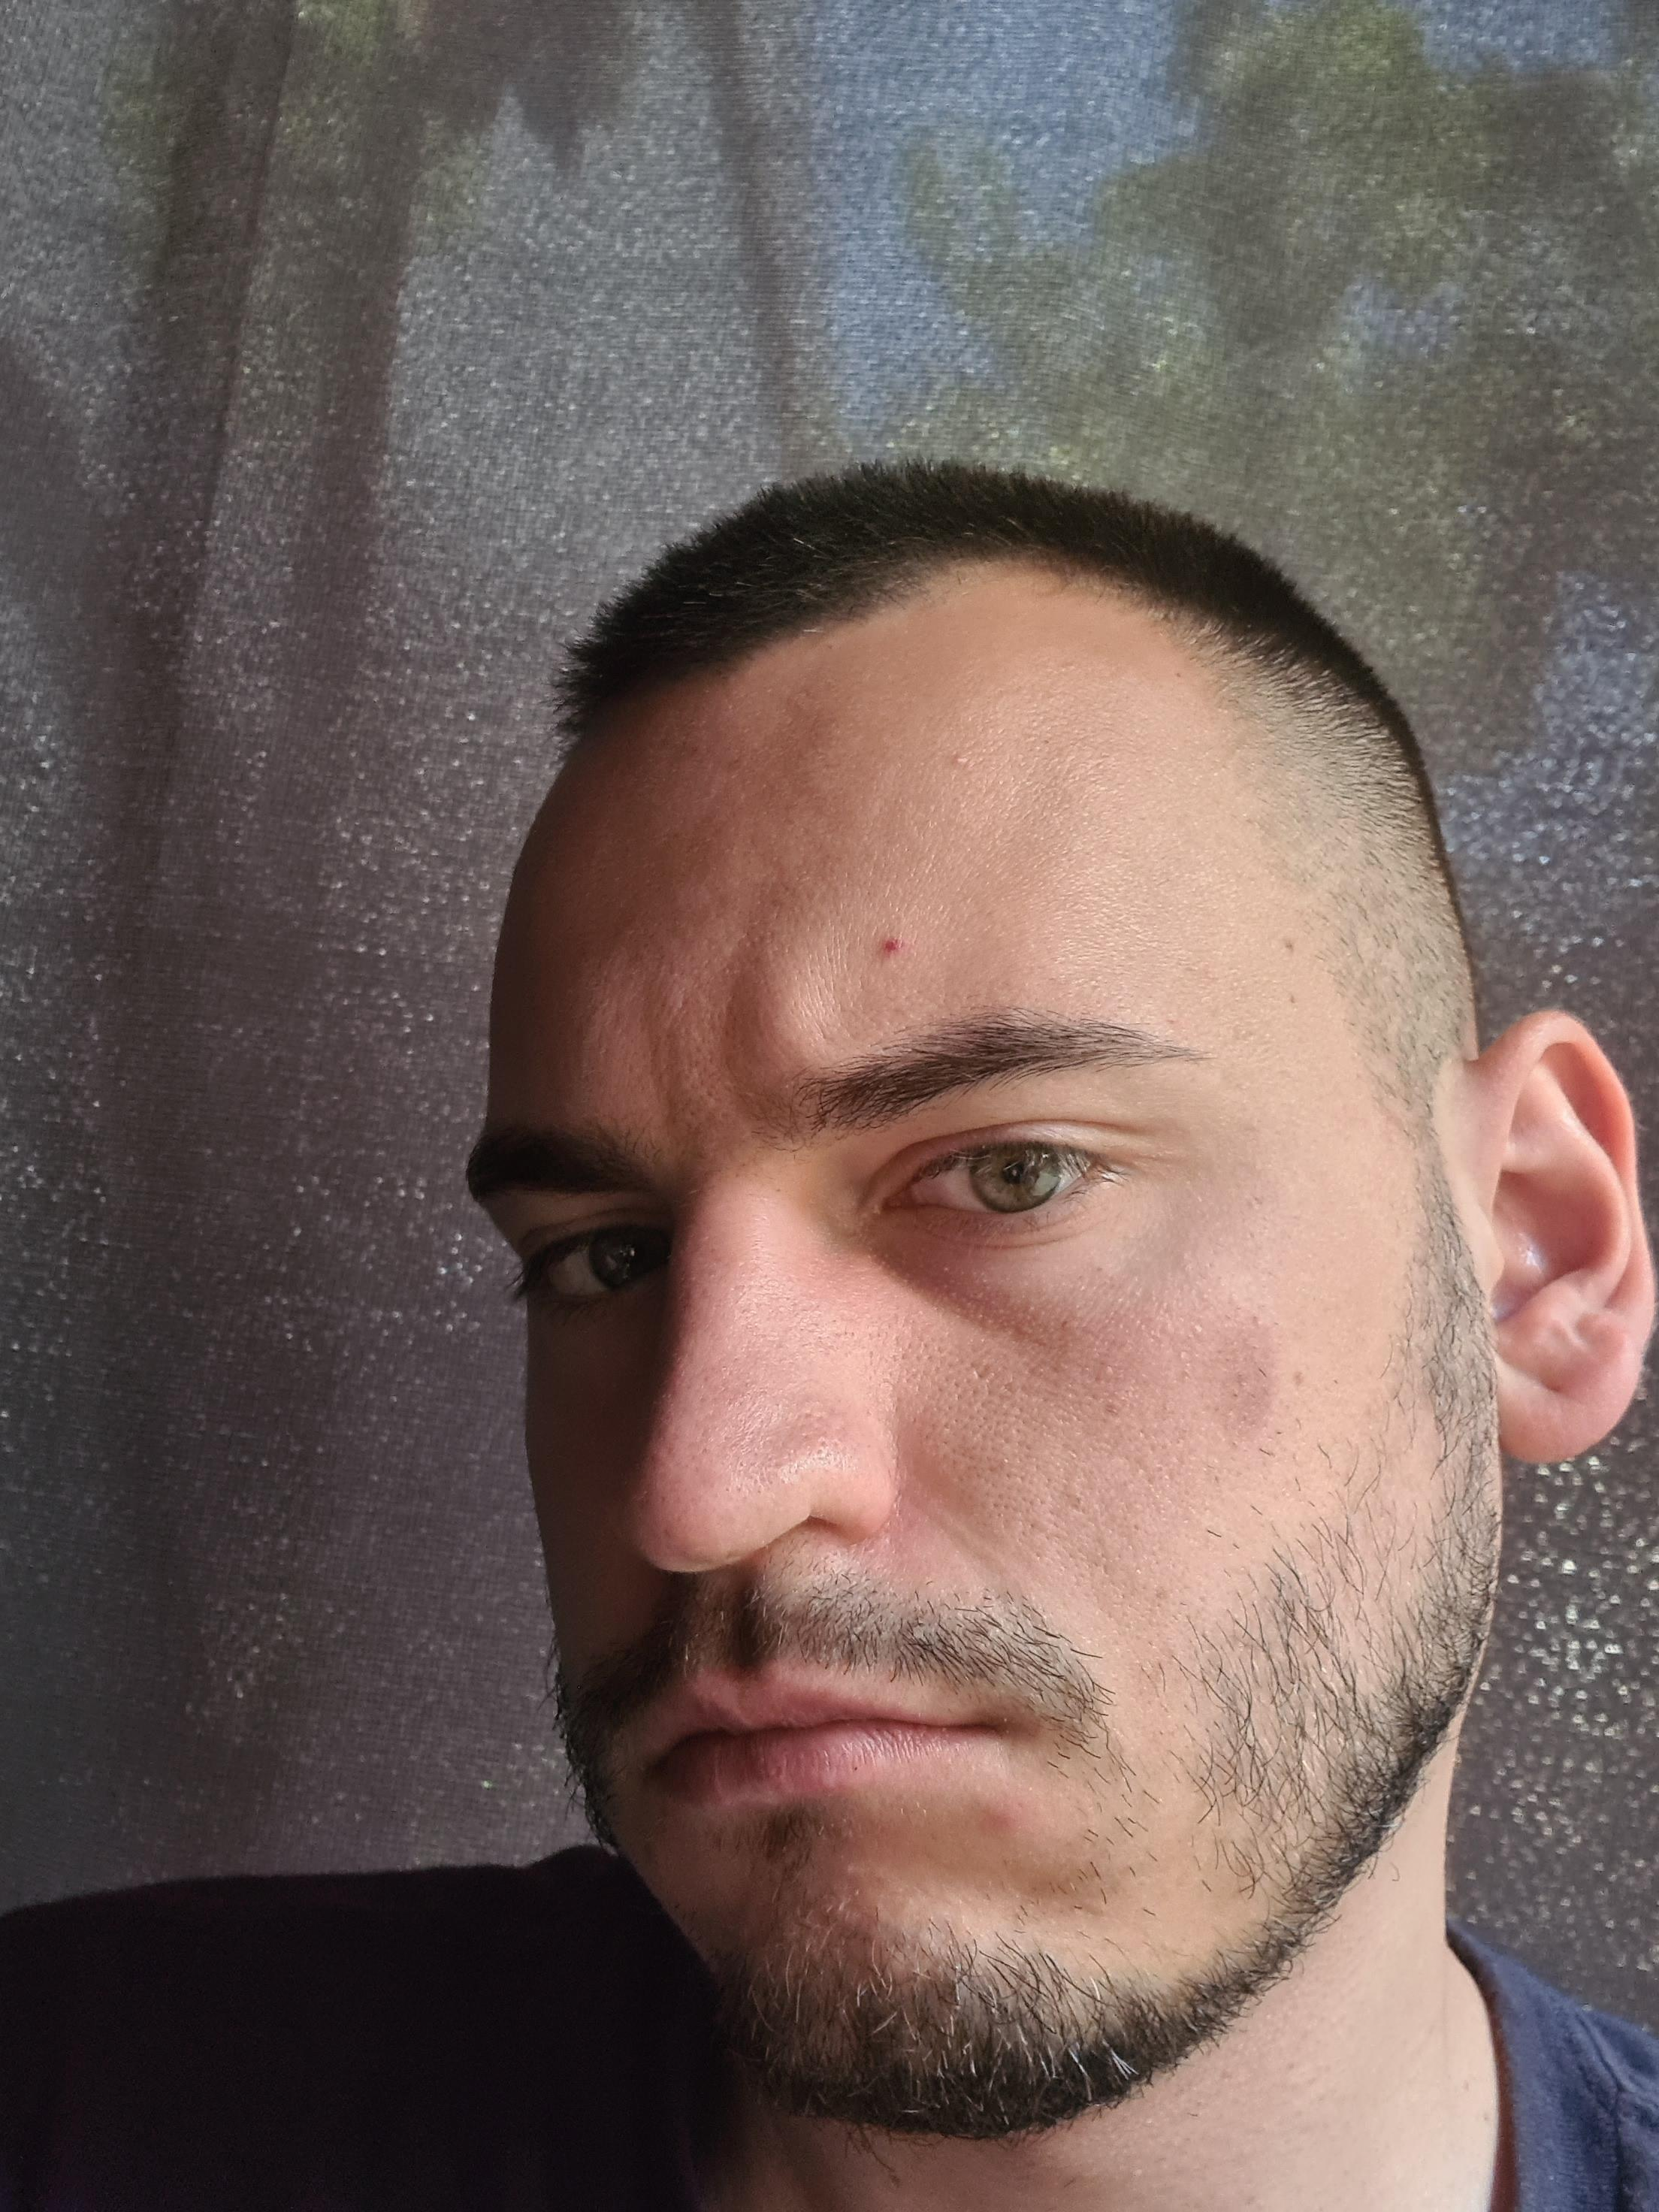Acne: (653, 1329, 732, 1507), (685, 1259, 809, 1329), (957, 1787, 1040, 1846), (828, 1308, 894, 1374), (877, 920, 904, 970), (945, 749, 979, 780)
Englarged-Pores: (864, 1315, 1067, 1545), (669, 1029, 770, 1141), (802, 1411, 887, 1479)
